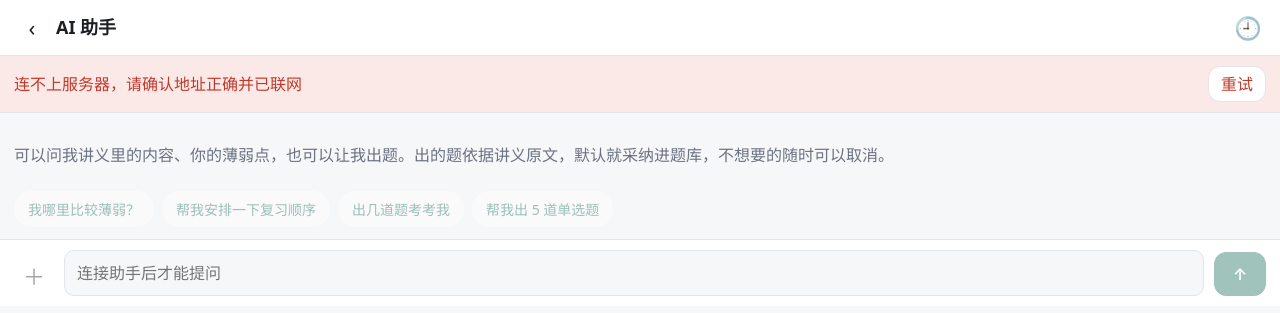
Test case: study assistant › AgentView › offline: explains and offers a retry, which brings it back
The width and height of the screenshot is (1280, 313).
Expected: the message with test id "agent-banner" shows "连不上服务器", [14,73,302,95]
Click the button "重试" at (1237, 84), box [1208,66,1266,102]
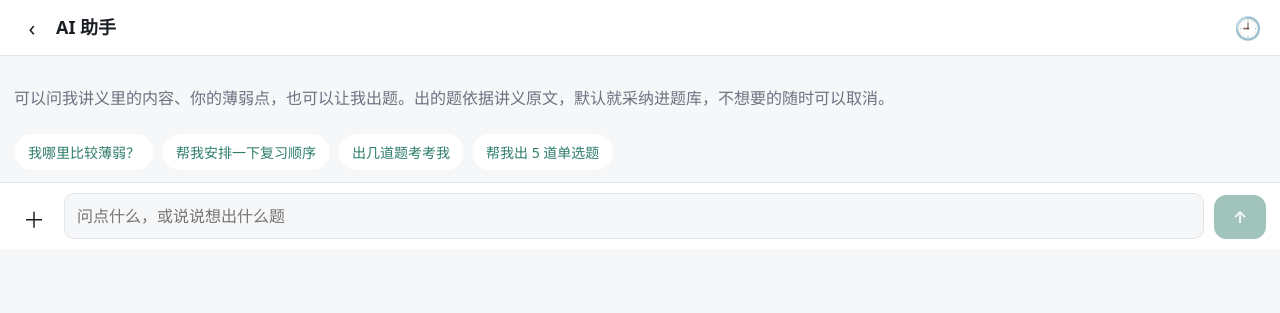
Type "你好" into the text box with test id "agent-input" showing "问点什么，或说说想出什么题" at (634, 216), box [64,193,1204,239]
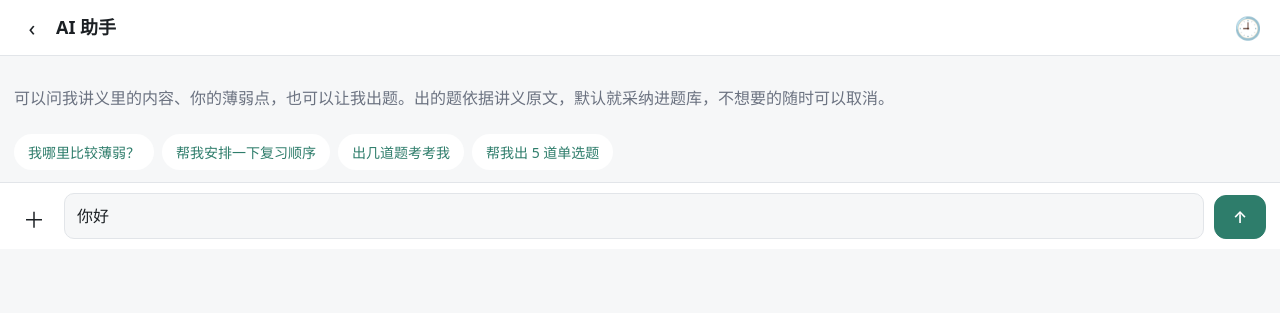
Now the button with test id "agent-send" is enabled, box [1214,195,1266,239]
